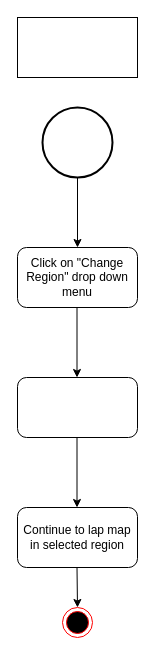
The diagram is 155 pixels wide and 655 high, and some of its shapes have lost their labels. Each missing label, with the centre of its shape:
Select region: (77,407)
User Interface: (77,47)
